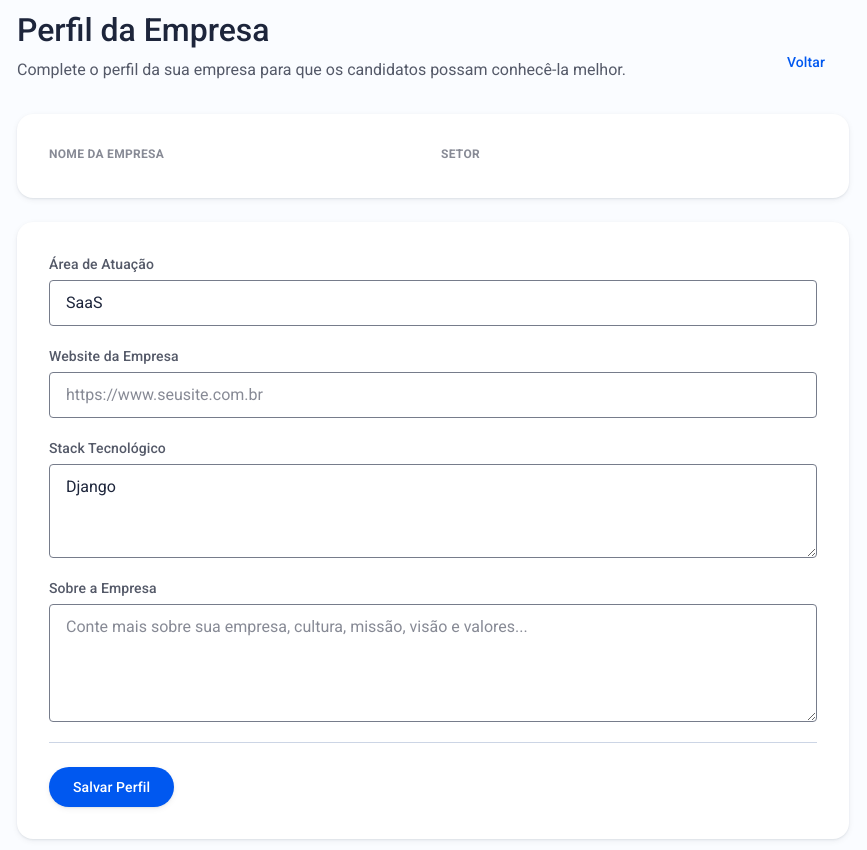
CompanyProfileEdit › mostra erro se salvar falhar
Step 1. Click the button "Salvar Perfil" → coordinates (112, 787), box 49,767 -> 174,807
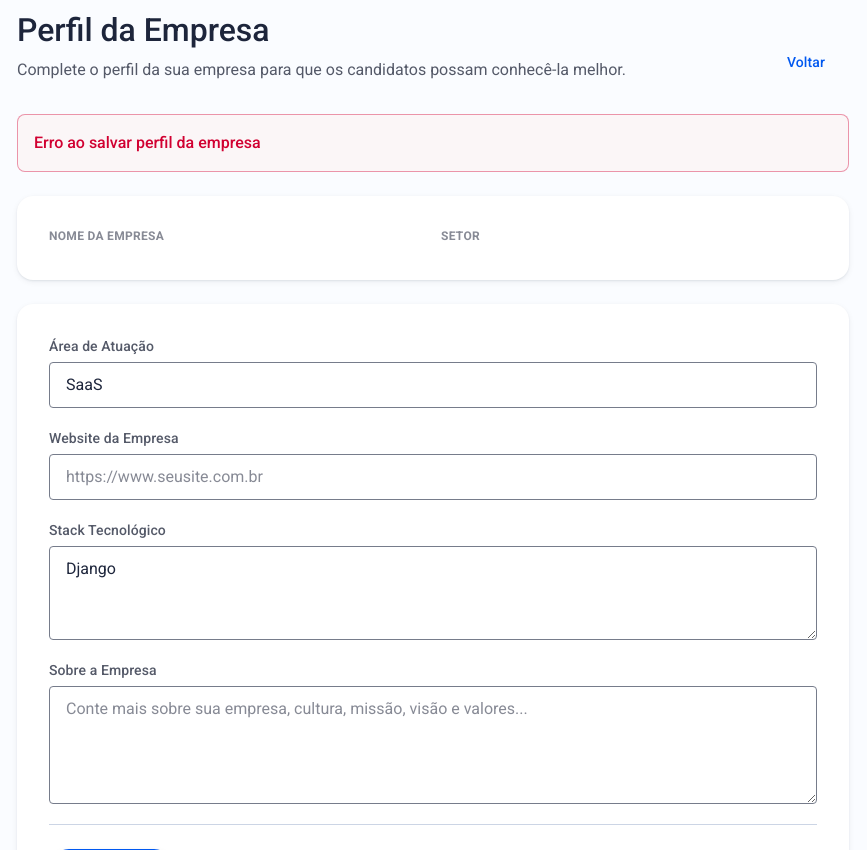
Now the text "Erro ao salvar perfil da empresa" is shown, box 34,133 -> 261,152
